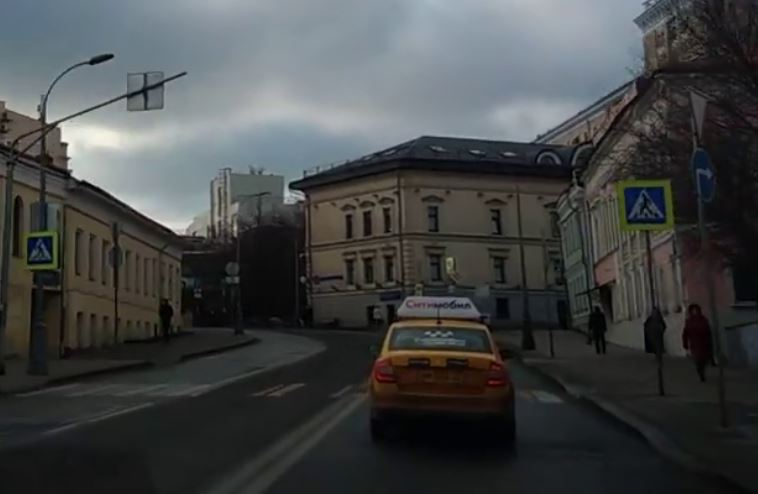Yaya Gecidi: (624, 188, 665, 222), (29, 237, 54, 263)
